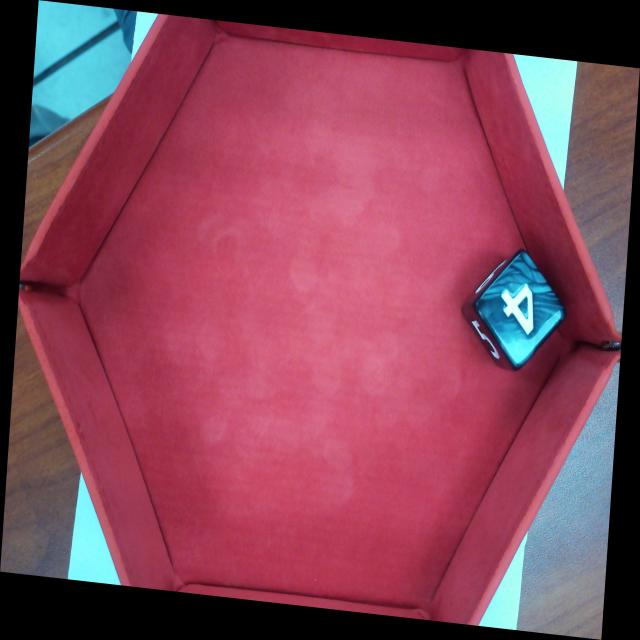dice: (478, 253, 563, 369)
